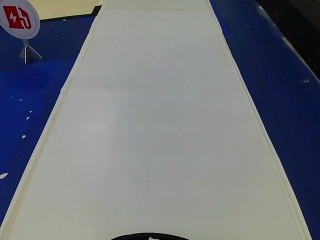battery: (0, 0, 39, 40)
